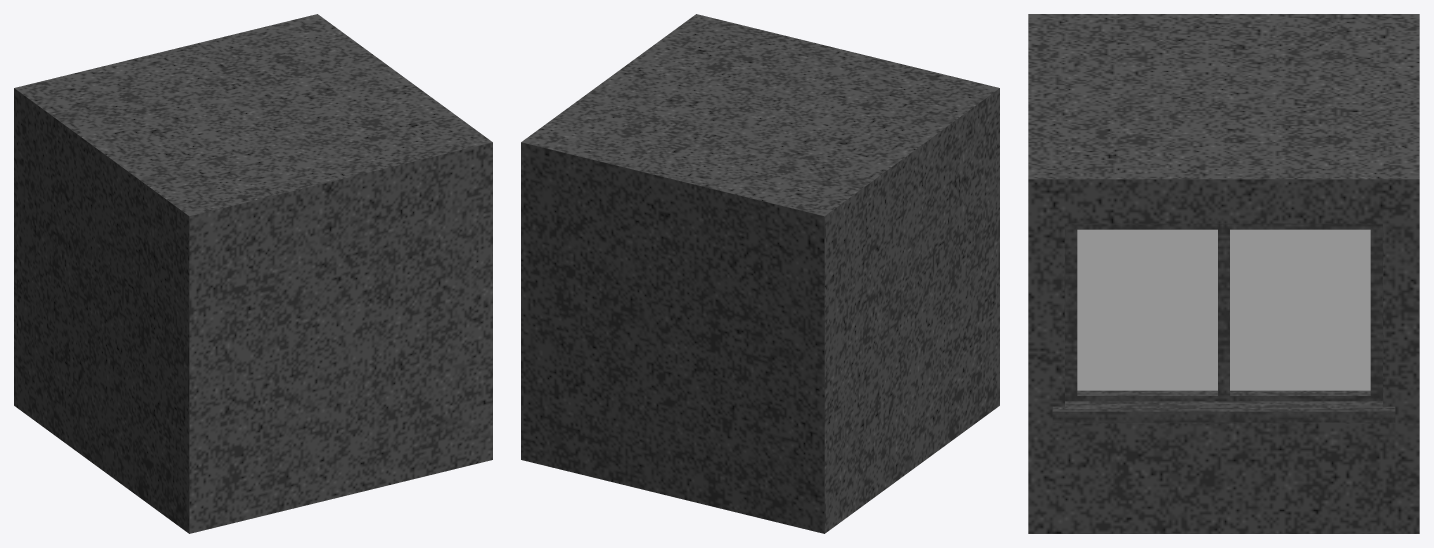
The model's file is Window1.fbx.
3 renders of one model, left to right at view 1: azimuth 30°, elevation 25°; view 2: azimuth 150°, elevation 25°; view 3: azimuth 270°, elevation 25°, orthographic. The views are drawn at different scales.
Parts seen in each view (by area): view 1: Cube; view 2: Cube; view 3: Cube.
Part boxes in pixels (bbox=[...]): Cube: bbox=[14, 14, 492, 533]; Cube: bbox=[521, 14, 999, 533]; Cube: bbox=[1028, 14, 1419, 533].
Size of the model in its own units: 412 by 400 by 400.
